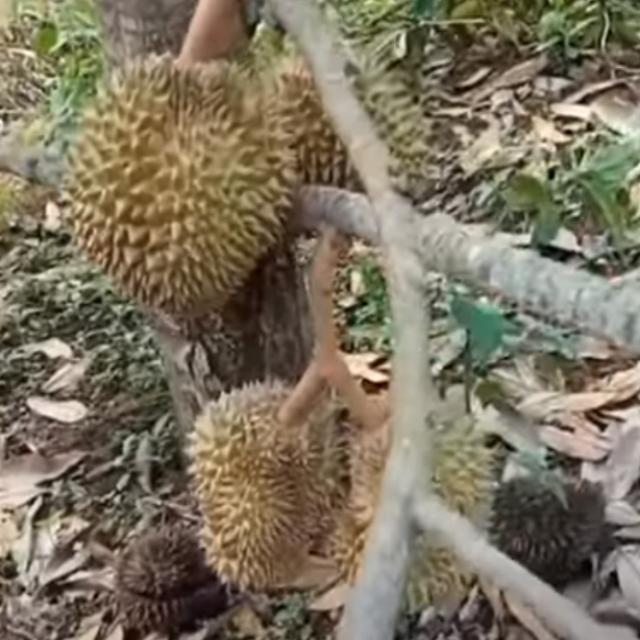defective: (479, 463, 606, 589), (113, 521, 223, 639)
mature: (59, 50, 302, 320), (192, 370, 338, 586)
